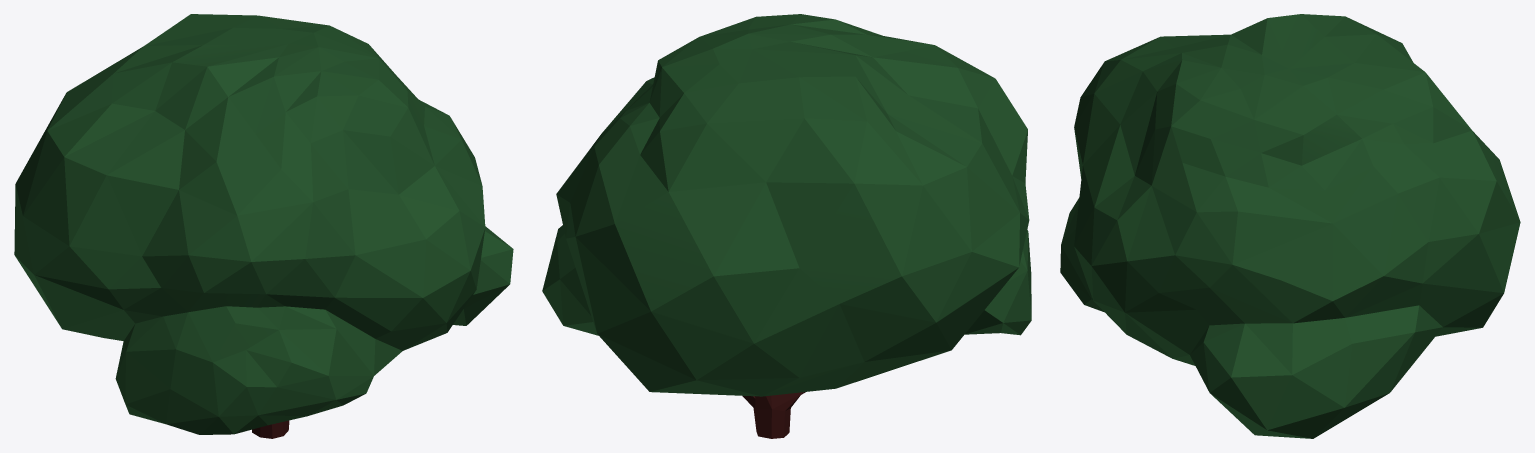
The model's file is shrub__2.fbx.
3 views of the same model, side by side, from view 1: azimuth 30°, elevation 25°; view 2: azimuth 150°, elevation 25°; view 3: azimuth 270°, elevation 25° (orthographic). The views are drawn at different scales.
Parts seen in each view (by area): view 1: tree3_Icosphere.007; view 2: tree3_Icosphere.007; view 3: tree3_Icosphere.007.
Boxes of the visible parts, bbox=[...] form: tree3_Icosphere.007: bbox=[14, 14, 513, 438]; tree3_Icosphere.007: bbox=[542, 14, 1031, 438]; tree3_Icosphere.007: bbox=[1060, 14, 1520, 438].
Bounding box in the file's own units: 2639 × 2134 × 2400.
